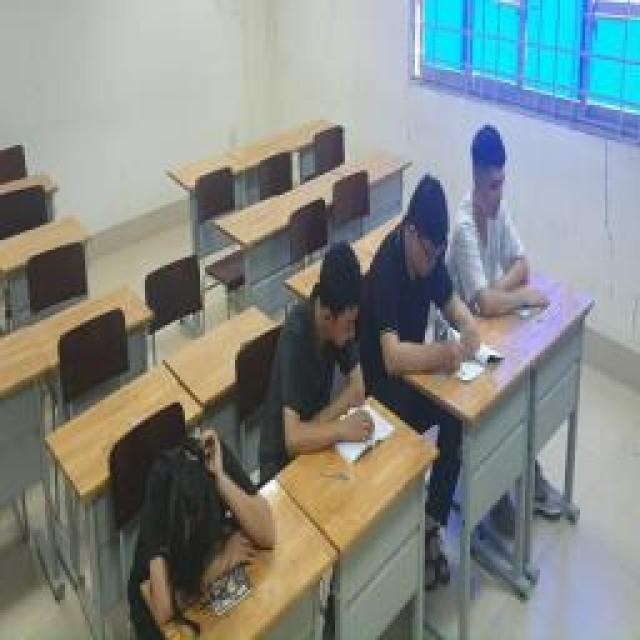sleep: (135, 432, 277, 622)
study: (368, 172, 480, 372), (278, 248, 372, 450), (455, 122, 547, 312)
